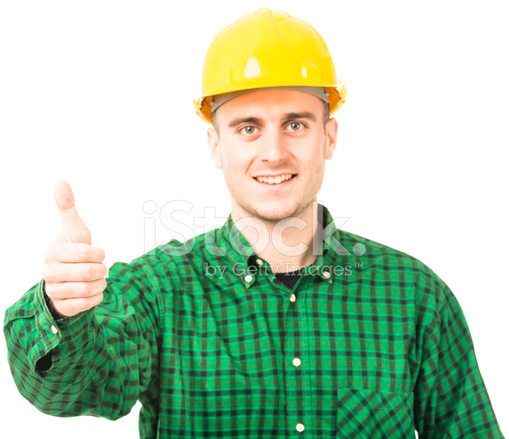Person_wearing_helmet: (195, 8, 349, 149)
